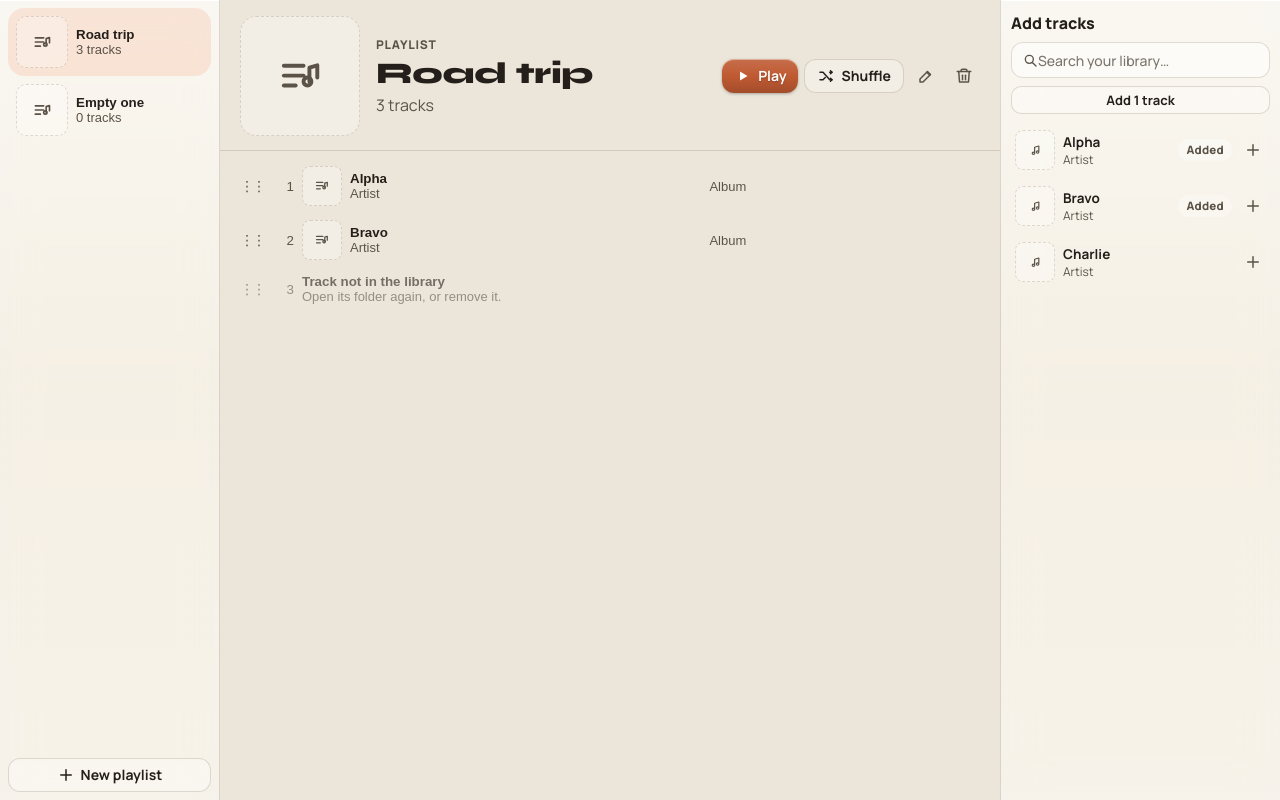
Test: PlaylistsScreen › renames the playlist inline
The width and height of the screenshot is (1280, 800).
Click the button named "Rename playlist". click: (926, 76)
box: [910, 60, 942, 92]
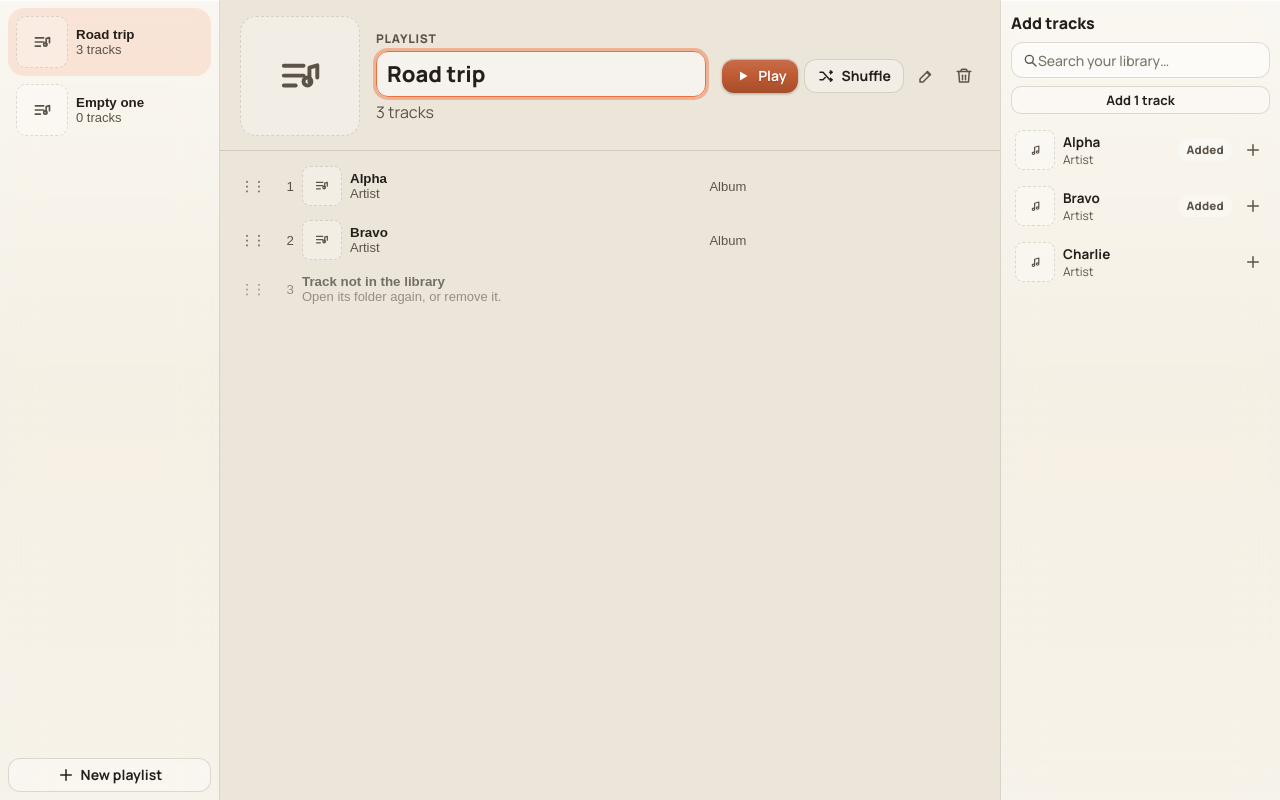
Replace the text in the field named "Playlist name" with "Summer". click: (541, 74)
box: [376, 50, 706, 96]
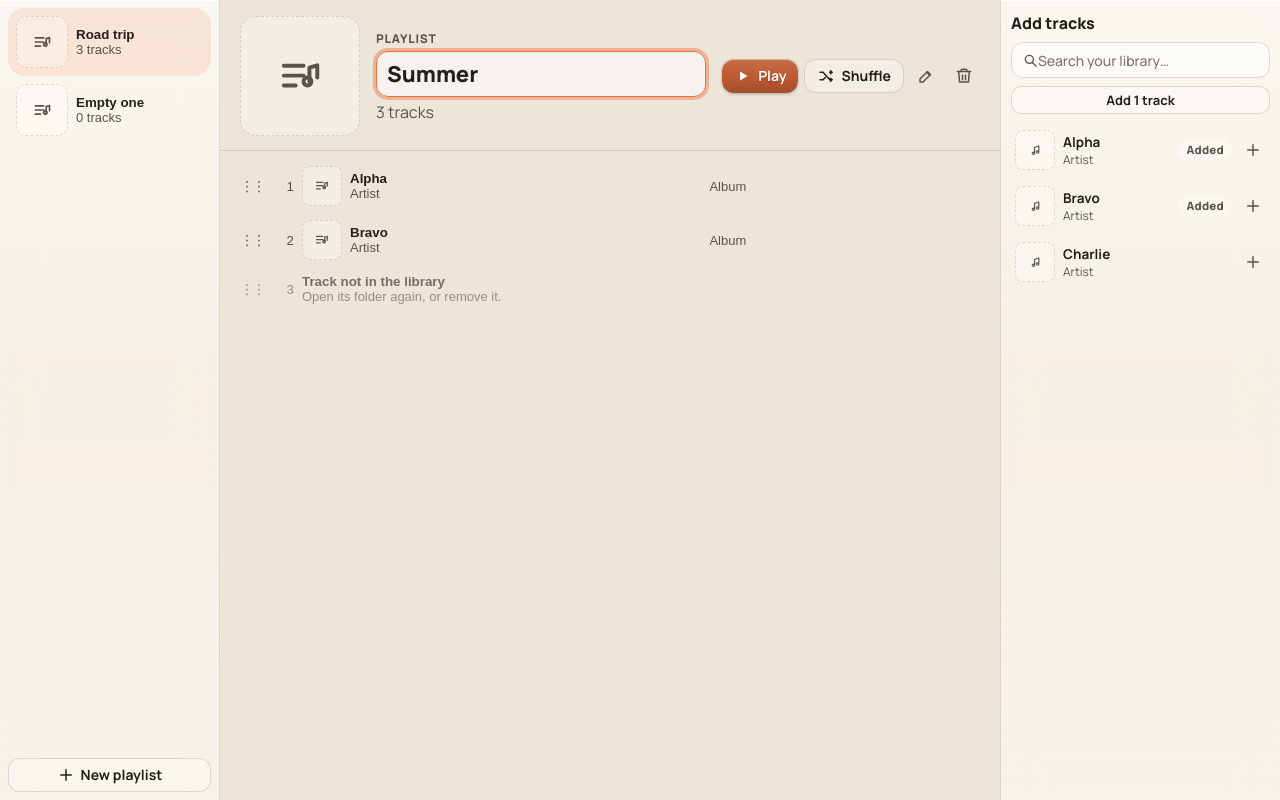
Press Enter in the field named "Playlist name", box [376, 50, 706, 96]
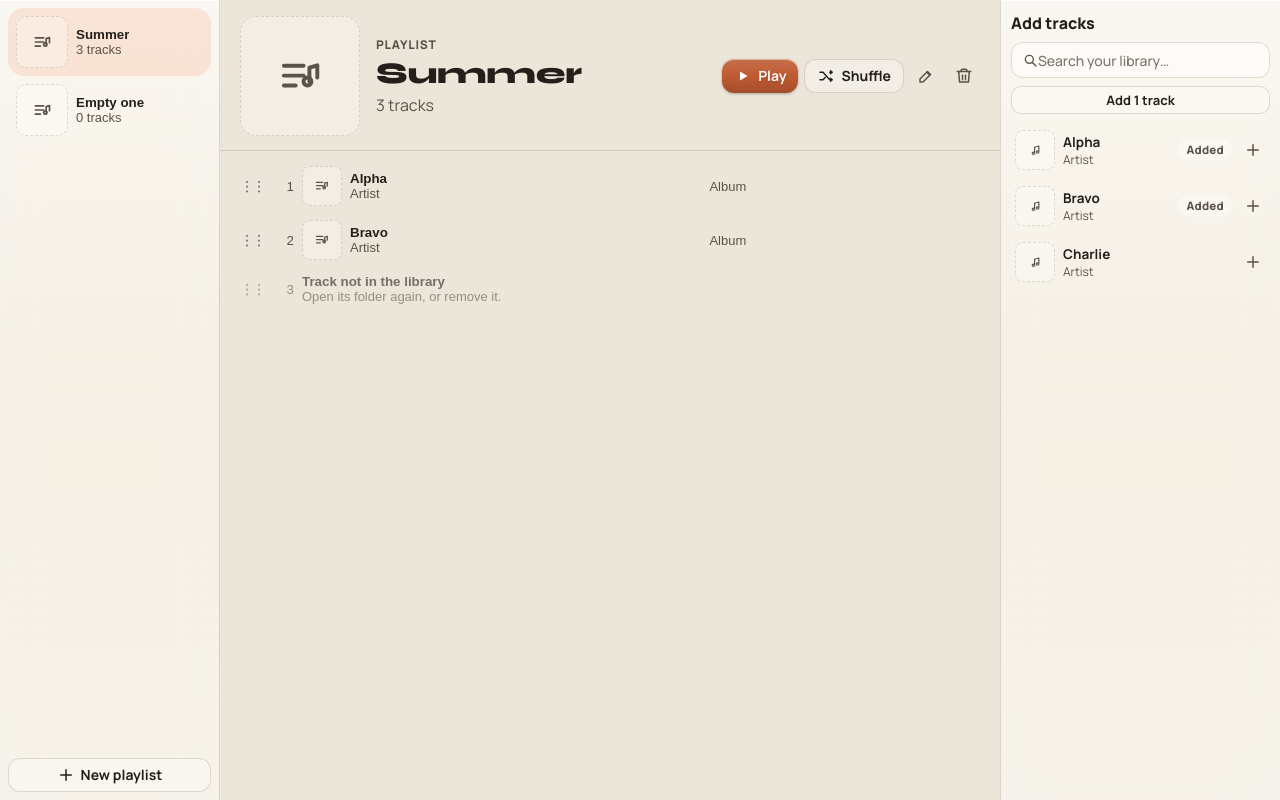
Check: the text "Summer" is shown, box [76, 27, 129, 42]
